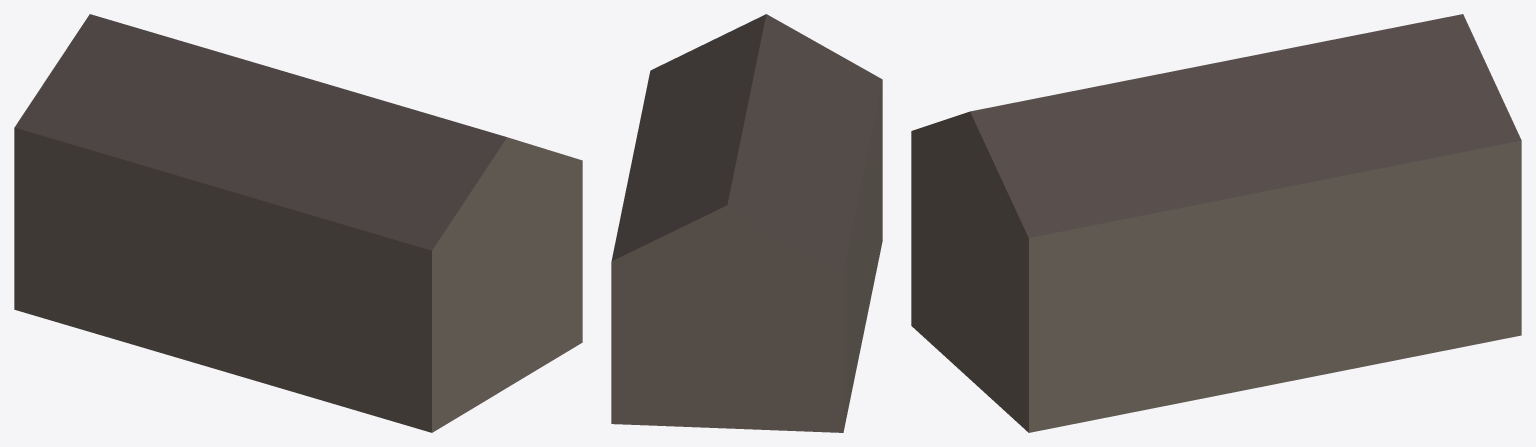
The picture shows the model from 3 angles, left to right: view 1: azimuth 30°, elevation 25°; view 2: azimuth 150°, elevation 25°; view 3: azimuth 270°, elevation 25°; orthographic projection. The views are drawn at different scales.
Parts seen in each view (by area): view 1: HP-w859488804; view 2: HP-w859488804; view 3: HP-w859488804.
Boxes of the visible parts, x1=… form: HP-w859488804: x1=14, y1=14, x2=582, y2=432; HP-w859488804: x1=611, y1=14, x2=882, y2=432; HP-w859488804: x1=911, y1=14, x2=1521, y2=432.
Size of the model in its own units: 13.52 by 8.25 by 17.04.
